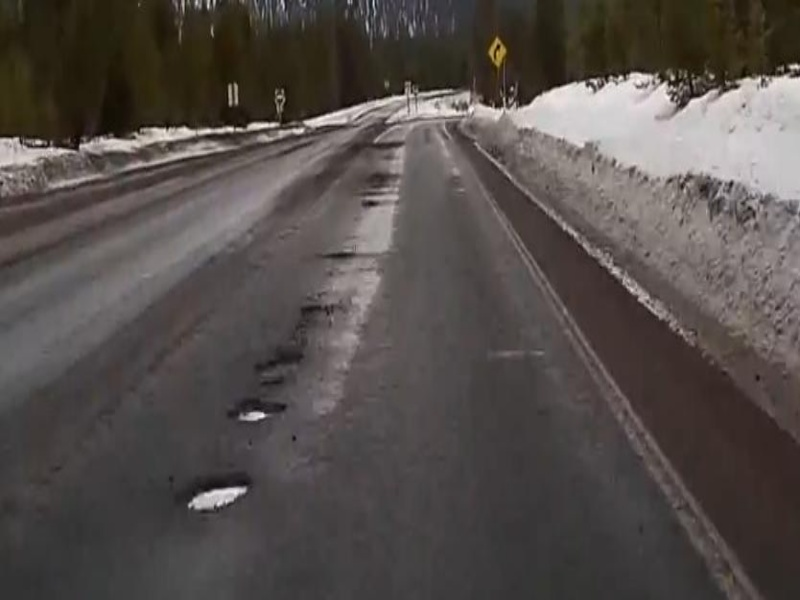pothole: (179, 477, 255, 513), (227, 395, 291, 424)
